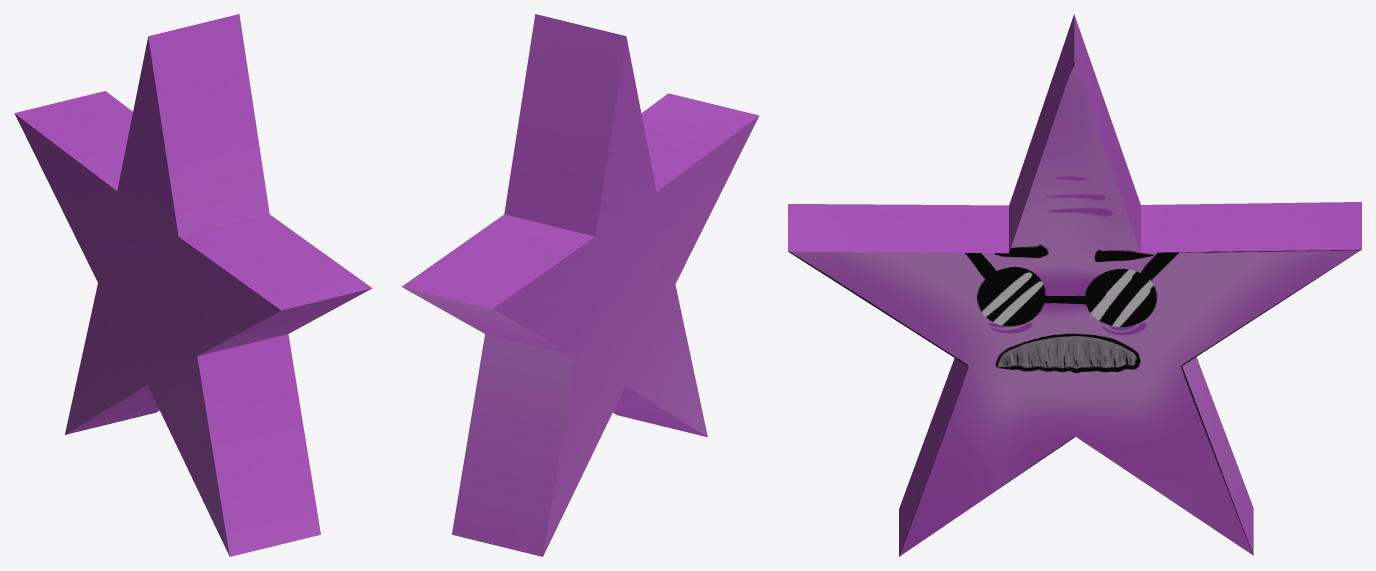
Rendered from estrellin.glb.
3 renders of one model, left to right at view 1: azimuth 30°, elevation 25°; view 2: azimuth 150°, elevation 25°; view 3: azimuth 270°, elevation 25°, orthographic. The views are drawn at different scales.
Parts seen in each view (by area): view 1: Circle; view 2: Circle; view 3: Circle.
Boxes of the visible parts, x1,y1,x2,y2 form: Circle: [14, 14, 372, 556]; Circle: [401, 14, 759, 556]; Circle: [788, 14, 1361, 556].
Bounding box in the file's own units: 0.3749 × 1.81 × 1.9.
1 material, 1 textured.
